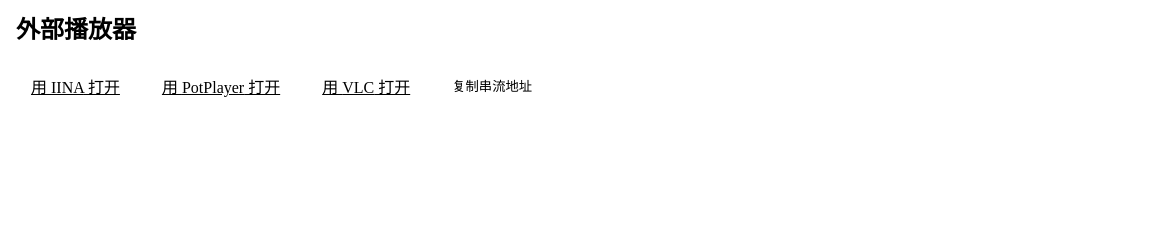
Test: hides streaming explanations and the address until a manual-copy fallback is needed
Step 1. Click the button "复制串流地址" → (492, 86), box [437,65,547,107]
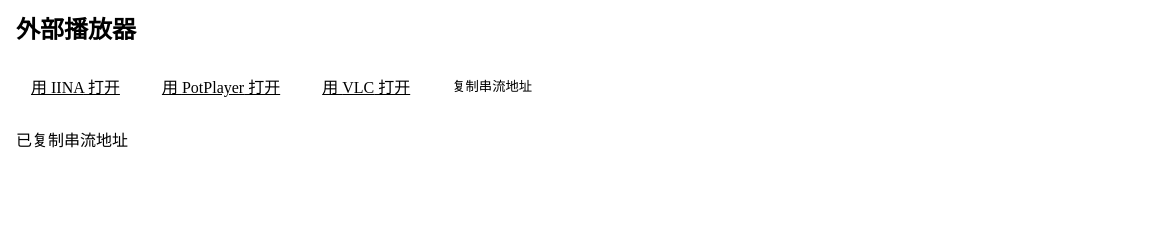
Now the text "已复制串流地址" is shown, box [16,132,128,149]
Step 2. Click the button "复制串流地址" → (492, 86), box [437,65,547,107]
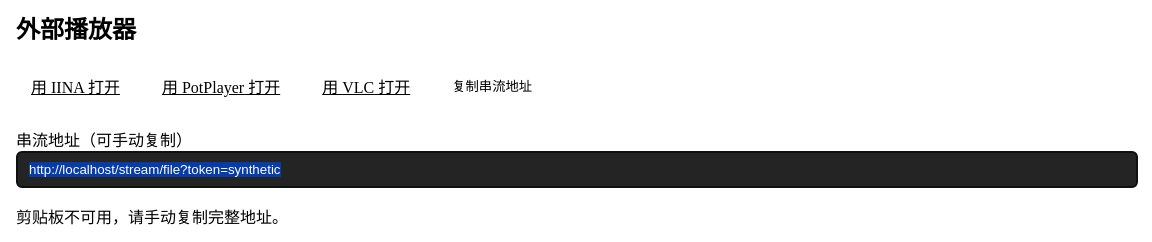
Step 3. Click the button "复制串流地址" → (492, 86), box [437,65,547,107]
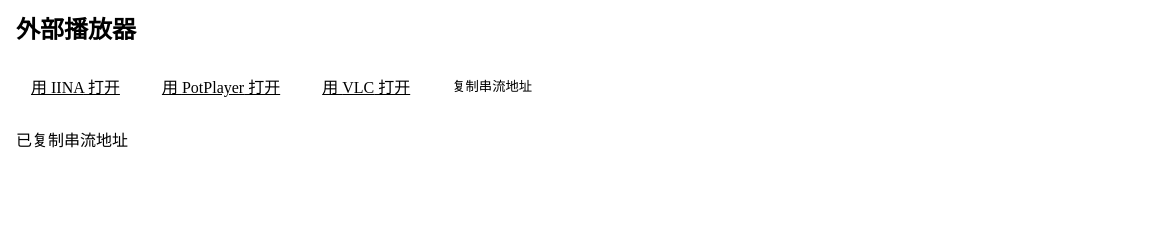
Now the field is gone
